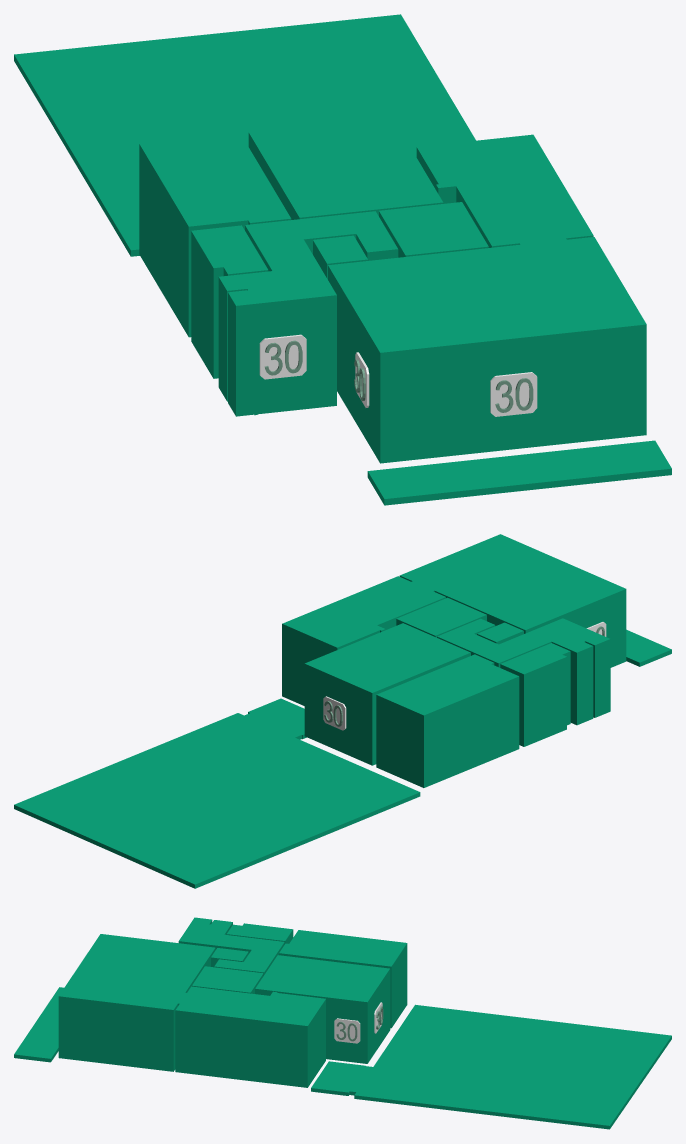
The picture shows the model from 3 angles, top to bottom: view 1: azimuth 30°, elevation 25°; view 2: azimuth 150°, elevation 25°; view 3: azimuth 270°, elevation 25°; orthographic projection. The views are drawn at different scales.
Visible parts, largest first — view 1: g_1, g_9, g_4, g_7, g_6, g_0, g_8, g_5, g_2, g_21, g_15, g_3; view 2: g_9, g_7, g_1, g_6, g_0, g_4, g_5, g_2, g_8, g_3; view 3: g_9, g_1, g_0, g_6, g_7, g_4, g_8, g_2, g_5, g_18, g_3.
Part boxes in pixels (box(x1,y1,x2,y2)): g_1: box(328, 237, 646, 463); g_9: box(14, 14, 475, 256); g_4: box(218, 211, 398, 416); g_7: box(139, 133, 291, 337); g_6: box(248, 117, 443, 219); g_0: box(416, 134, 593, 247); g_8: box(367, 440, 671, 505); g_5: box(191, 225, 268, 378); g_2: box(379, 202, 488, 257); g_21: box(490, 372, 537, 416); g_15: box(259, 334, 306, 379); g_3: box(313, 235, 367, 279); g_9: box(14, 698, 420, 888); g_7: box(376, 654, 519, 787); g_1: box(399, 534, 626, 667); g_6: box(304, 623, 470, 765); g_0: box(282, 576, 445, 705); g_4: box(437, 618, 610, 725); g_5: box(500, 643, 570, 746); g_2: box(396, 597, 486, 637); g_8: box(626, 629, 671, 666); g_3: box(477, 622, 523, 644); g_9: box(311, 1004, 671, 1129); g_1: box(58, 934, 215, 1071); g_0: box(175, 986, 325, 1087); g_6: box(255, 955, 390, 1063); g_7: box(279, 930, 407, 1028); g_4: box(178, 917, 284, 975); g_8: box(14, 987, 63, 1062); g_2: box(192, 966, 263, 993); g_5: box(226, 923, 293, 944); g_18: box(334, 1018, 360, 1043); g_3: box(211, 948, 248, 967).
Bounding box in the file's own units: 13.06 × 2.74 × 24.83.
